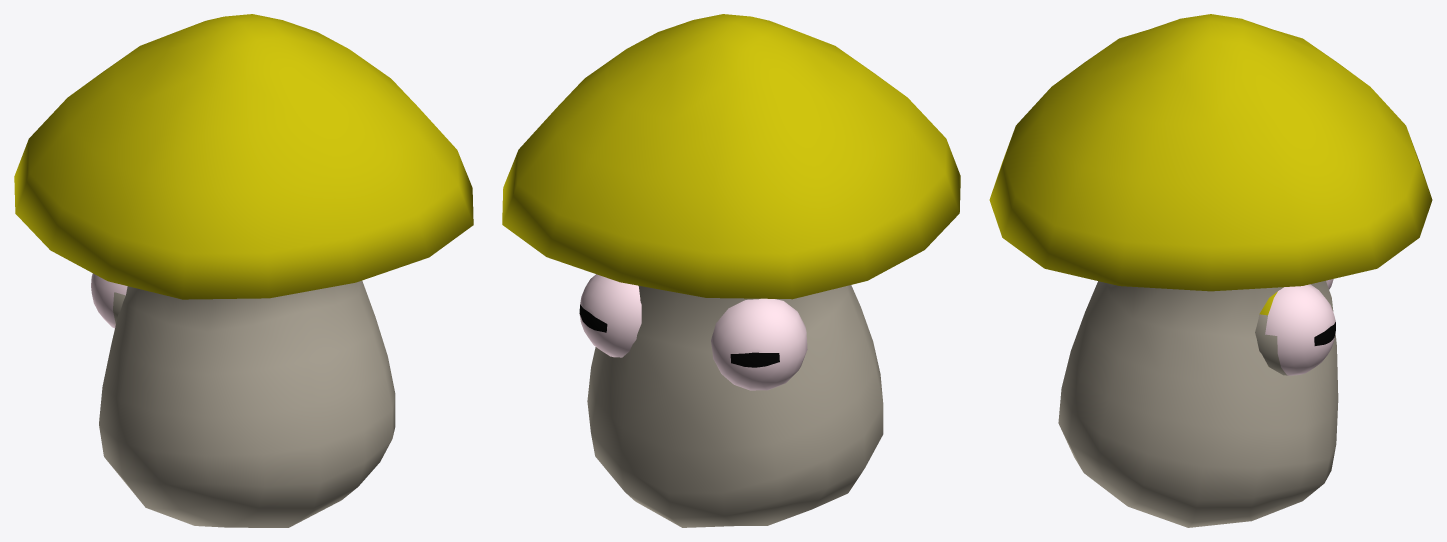
File: yellowmushroom.obj
The picture shows the model from 3 angles, left to right: view 1: azimuth 30°, elevation 25°; view 2: azimuth 150°, elevation 25°; view 3: azimuth 270°, elevation 25°; orthographic projection.
Visible parts, largest first — view 1: yellowmushroom; view 2: yellowmushroom; view 3: yellowmushroom.
Boxes of the visible parts, x1,y1,x2,y2 form: yellowmushroom: [14, 14, 473, 527]; yellowmushroom: [502, 14, 960, 527]; yellowmushroom: [989, 14, 1432, 527].
Size of the model in its own units: 2.75 by 3.35 by 2.75.
